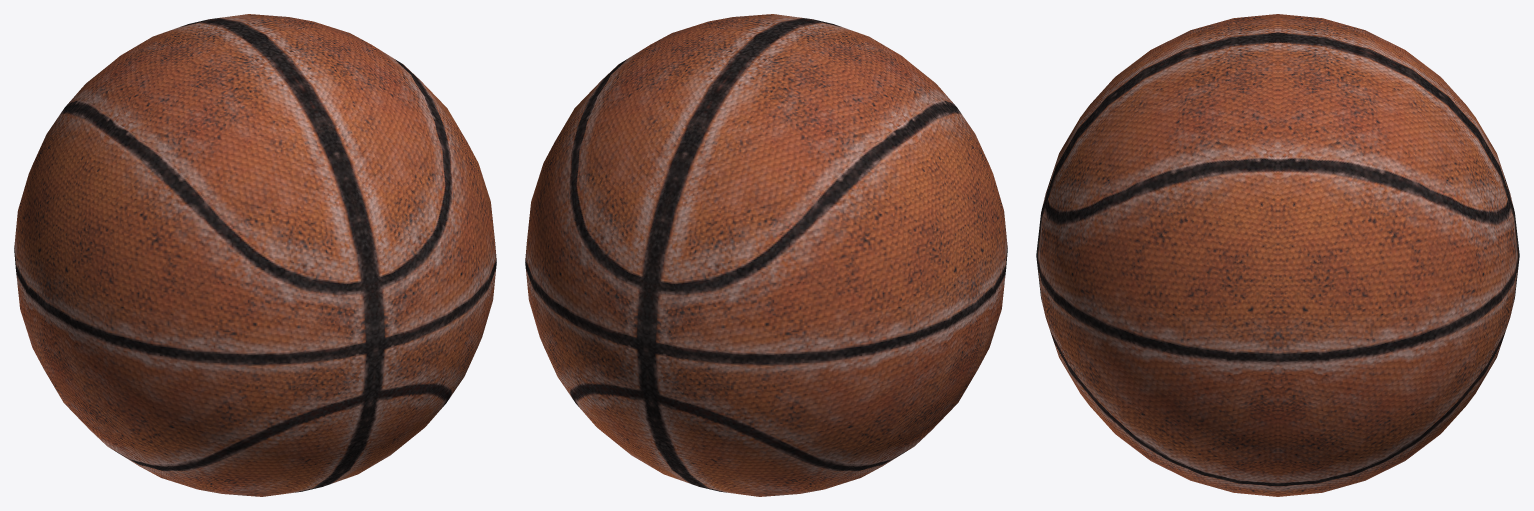
The model's file is basketball.fbx.
3 views of the same model, side by side, from view 1: azimuth 30°, elevation 25°; view 2: azimuth 150°, elevation 25°; view 3: azimuth 270°, elevation 25° (orthographic).
Parts seen in each view (by area): view 1: basketball; view 2: basketball; view 3: basketball.
Part boxes in pixels (x1,y1,x2,y2): basketball: [14, 14, 496, 496]; basketball: [525, 14, 1007, 496]; basketball: [1036, 14, 1519, 496].
Size of the model in its own units: 23.68 by 23.68 by 23.68.
